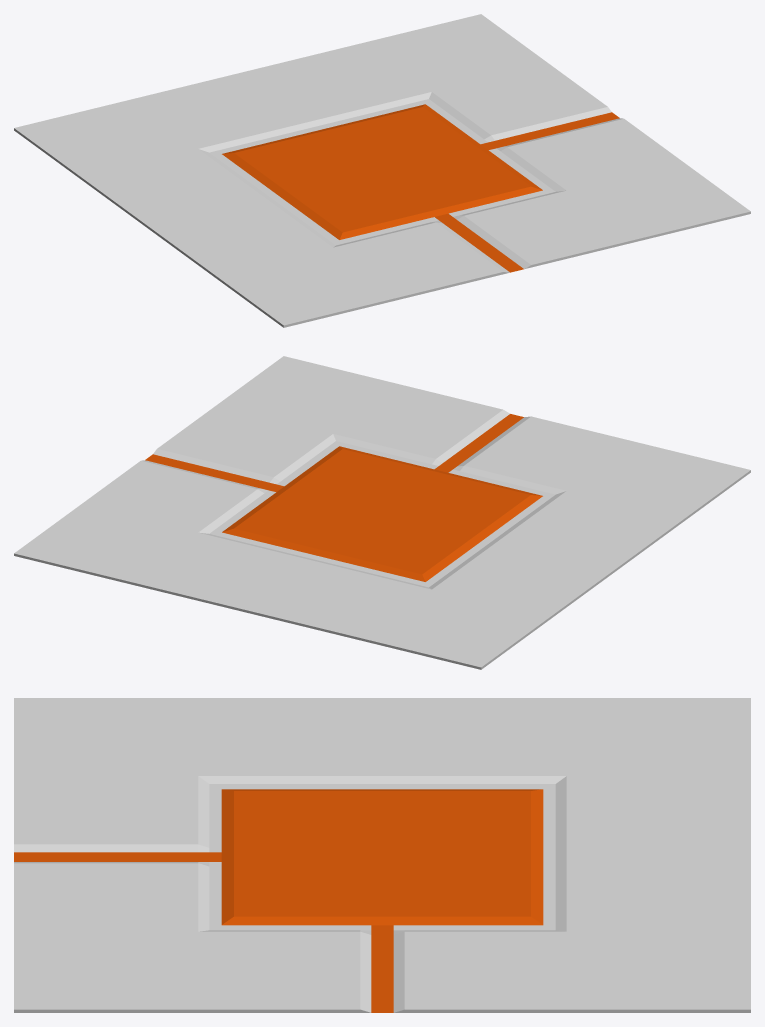
The model's file is S_Floor3_LOD0.fbx.
3 renders of one model, top to bottom at view 1: azimuth 30°, elevation 25°; view 2: azimuth 150°, elevation 25°; view 3: azimuth 270°, elevation 25°, orthographic. The views are drawn at different scales.
Parts seen in each view (by area): view 1: S_Floor3_LOD0; view 2: S_Floor3_LOD0; view 3: S_Floor3_LOD0.
Boxes of the visible parts, x1,y1,x2,y2 form: S_Floor3_LOD0: (14,14,750,327); S_Floor3_LOD0: (14,356,750,669); S_Floor3_LOD0: (14,698,750,1012).
Size of the model in its own units: 200 by 200 by 1.
